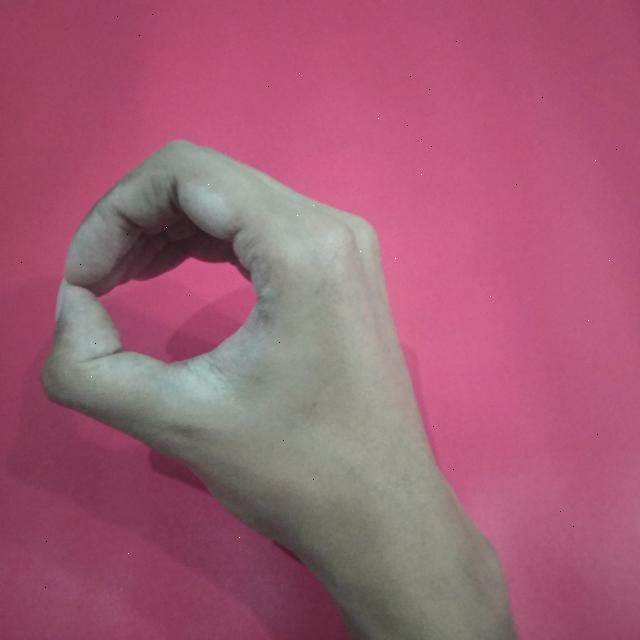O: (33, 132, 513, 640)
